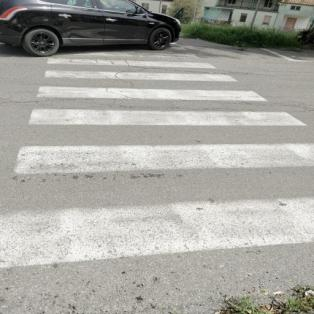Paso de Cebra: (0, 138, 314, 276), (21, 85, 311, 128)
